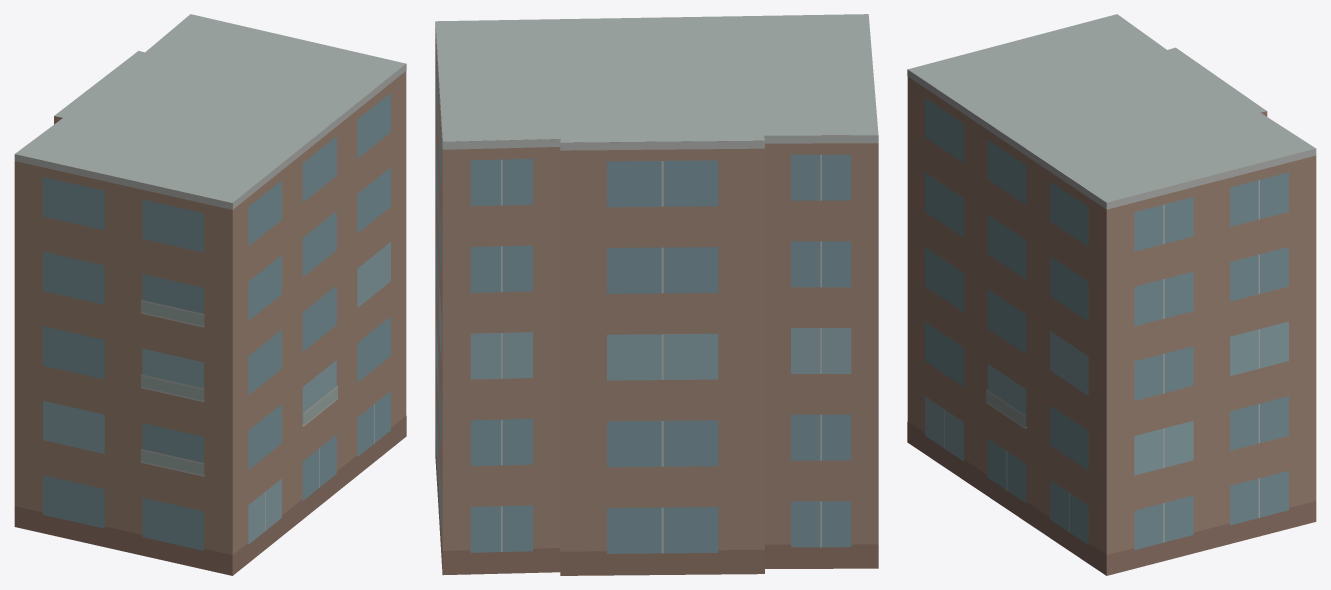
The model's file is survey-upis-32678633.glb.
3 renders of one model, left to right at view 1: azimuth 30°, elevation 25°; view 2: azimuth 150°, elevation 25°; view 3: azimuth 270°, elevation 25°, orthographic. The views are drawn at different scales.
Parts seen in each view (by area): view 1: survey-upis-32678633.tmp; view 2: survey-upis-32678633.tmp; view 3: survey-upis-32678633.tmp.
Boxes of the visible parts, x1,y1,x2,y2 form: survey-upis-32678633.tmp: (14, 14, 406, 575); survey-upis-32678633.tmp: (435, 14, 878, 575); survey-upis-32678633.tmp: (907, 14, 1316, 575).
Size of the model in its own units: 14.33 by 13.2 by 13.12.
